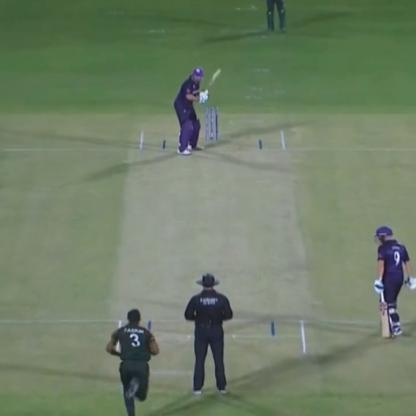pitch: (107, 127, 312, 368)
